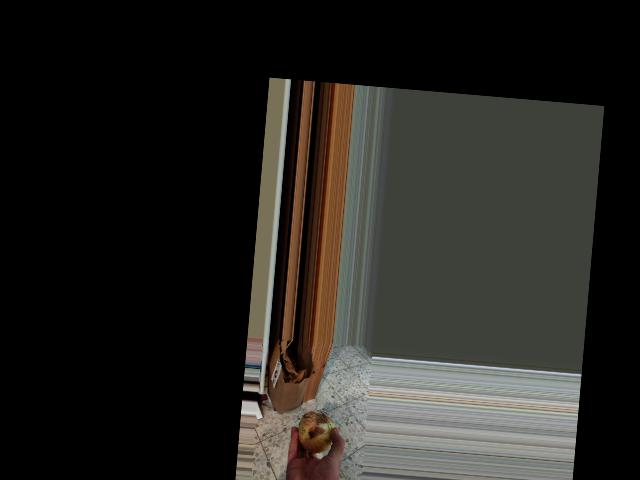onion: (296, 409, 340, 459)
